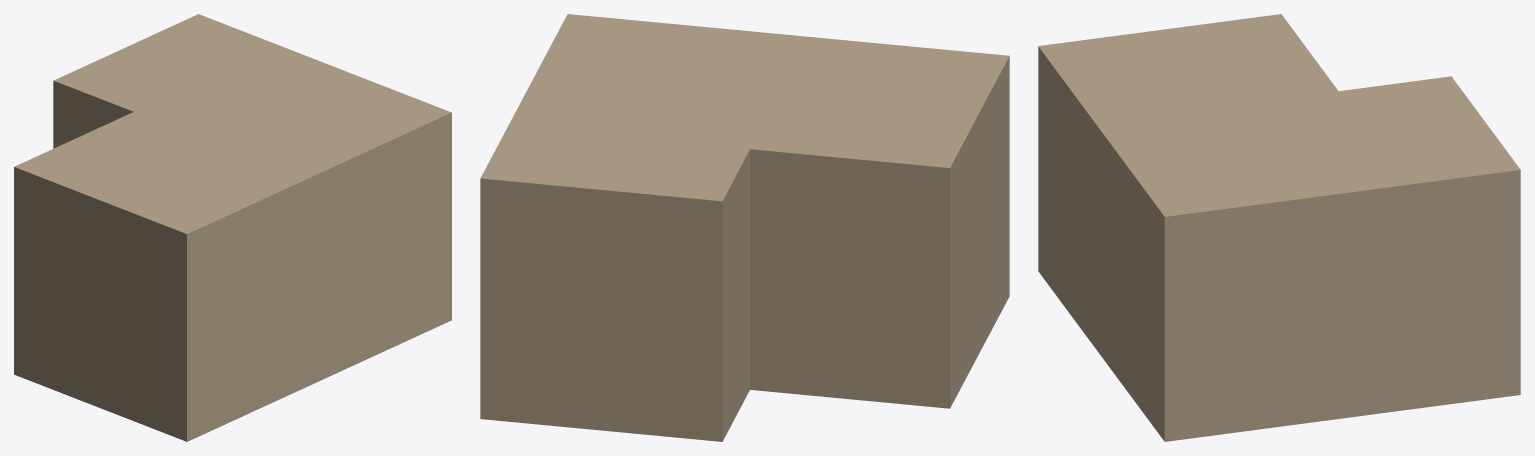
Rendered from bld_106796599.dae.
3 renders of one model, left to right at view 1: azimuth 30°, elevation 25°; view 2: azimuth 150°, elevation 25°; view 3: azimuth 270°, elevation 25°, orthographic. The views are drawn at different scales.
Visible parts, largest first — view 1: bld_106796599; view 2: bld_106796599; view 3: bld_106796599.
Boxes of the visible parts, x1=… form: bld_106796599: x1=14, y1=14, x2=451, y2=441; bld_106796599: x1=480, y1=14, x2=1009, y2=441; bld_106796599: x1=1038, y1=14, x2=1520, y2=441.
Size of the model in its own units: 15.47 by 15.55 by 8.
